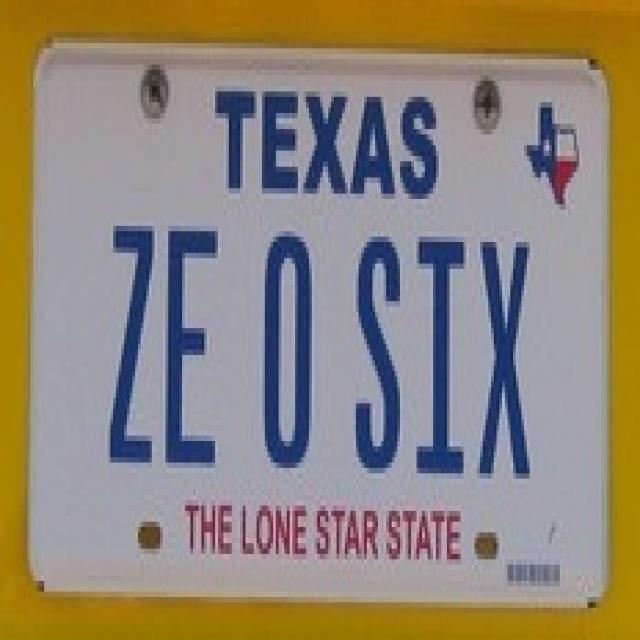licenseplate: (25, 32, 619, 619)
